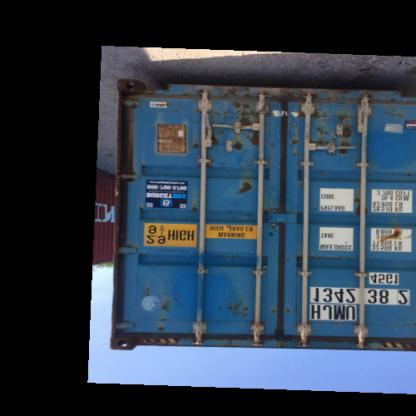Damage: (207, 92, 264, 156), (310, 108, 358, 160), (120, 116, 142, 188), (154, 286, 181, 334), (216, 298, 250, 325), (377, 223, 405, 250), (235, 180, 258, 202), (264, 302, 294, 317)
